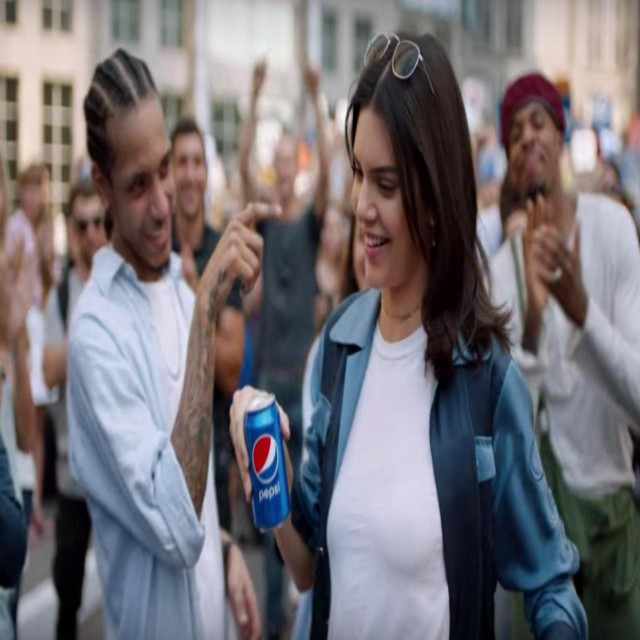pepsi: (251, 425, 280, 491)
